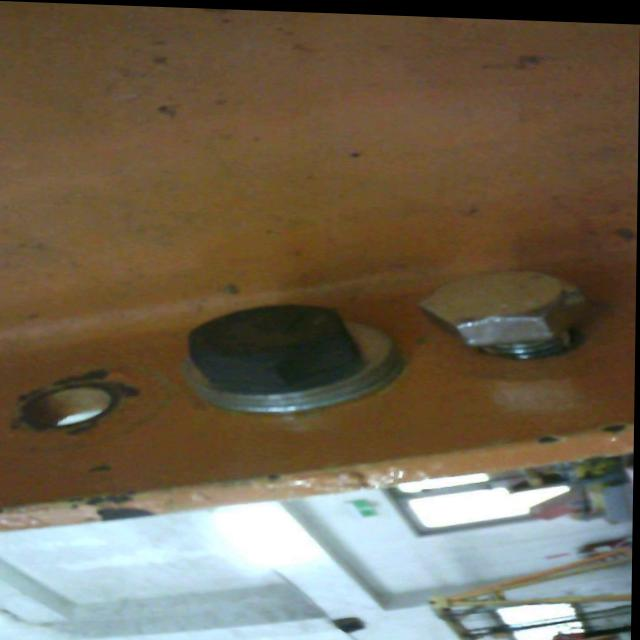Loose bolt: (423, 261, 600, 360)
Missing bolt: (20, 377, 123, 433)
Rusty bolt: (187, 298, 401, 417)
